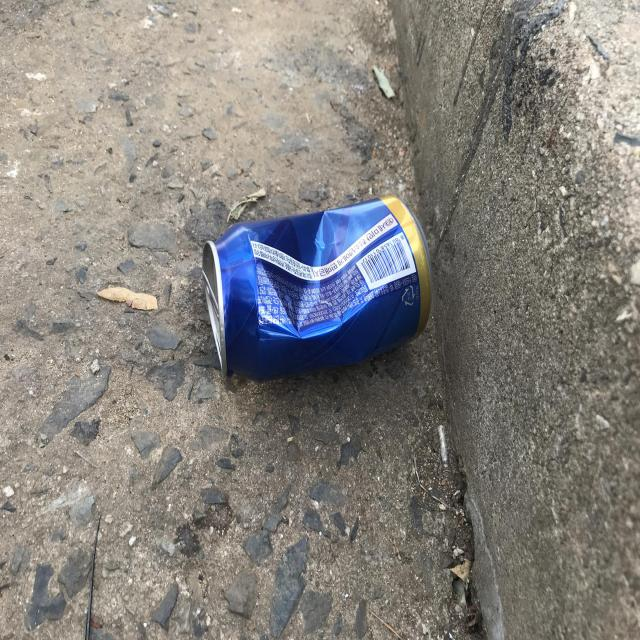can: (202, 195, 432, 381)
